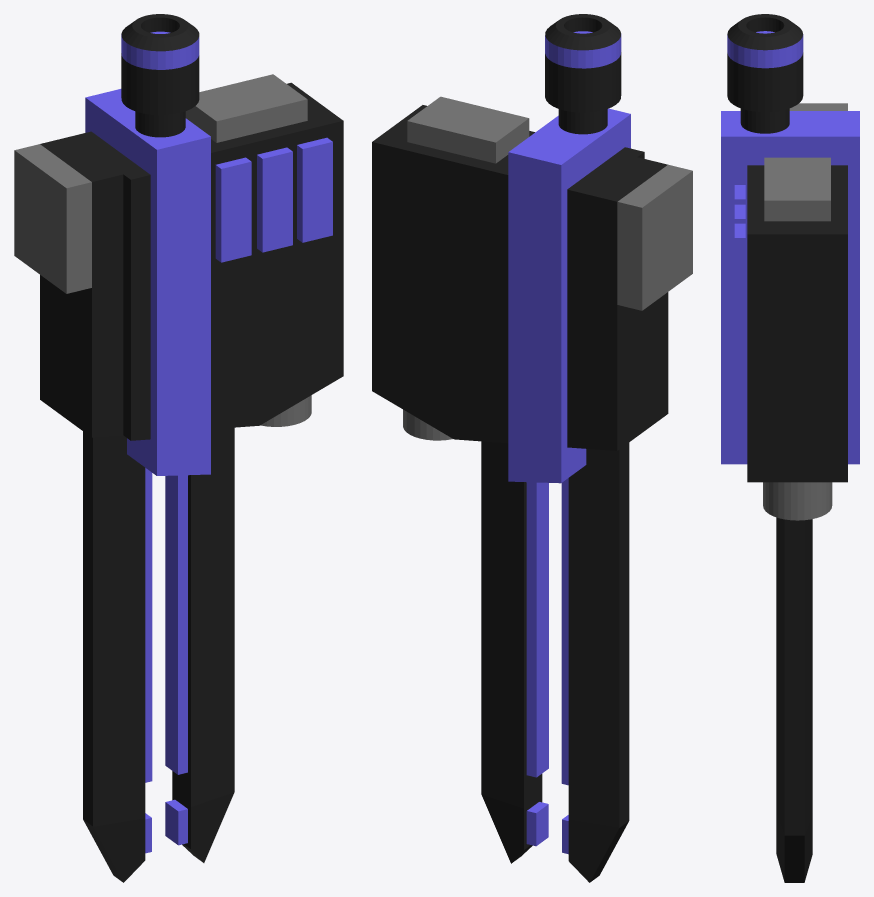
Rendered from laser_top_new.fbx.
The picture shows the model from 3 angles, left to right: view 1: azimuth 30°, elevation 25°; view 2: azimuth 150°, elevation 25°; view 3: azimuth 270°, elevation 25°; orthographic projection. The views are drawn at different scales.
Parts seen in each view (by area): view 1: Cylinder; view 2: Cylinder; view 3: Cylinder.
Boxes of the visible parts, bbox=[...] form: Cylinder: bbox=[14, 14, 343, 882]; Cylinder: bbox=[372, 14, 692, 882]; Cylinder: bbox=[721, 14, 859, 882].
Size of the model in its own units: 227 by 671 by 102.
